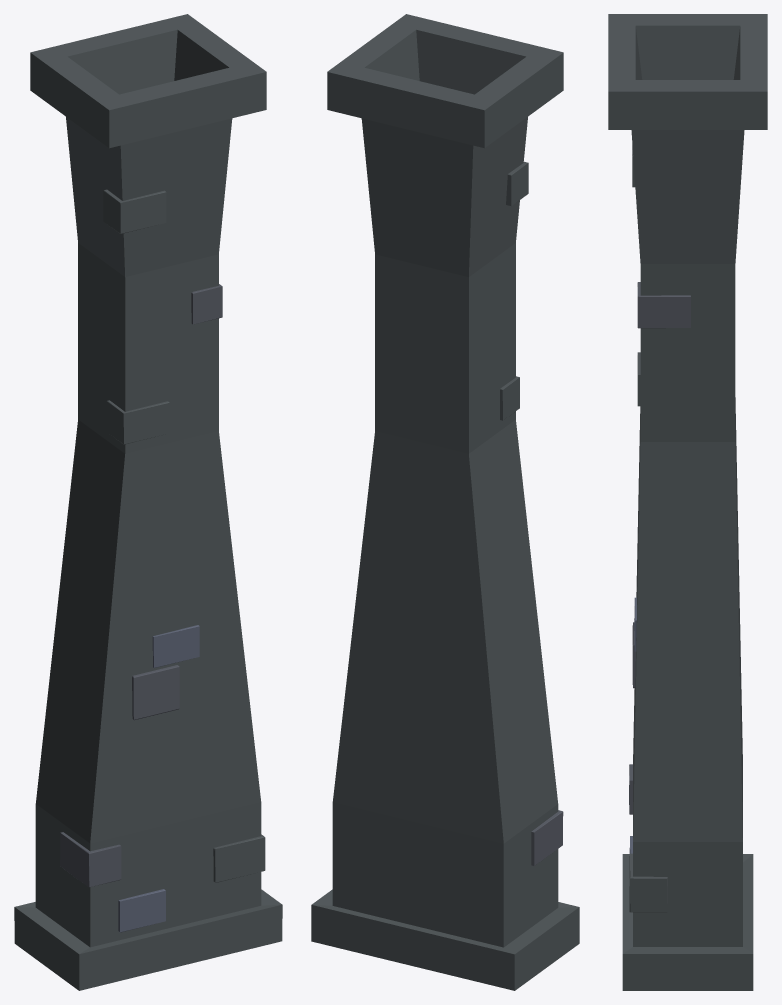
File: Chimney_01.fbx
3 views of the same model, side by side, from view 1: azimuth 30°, elevation 25°; view 2: azimuth 150°, elevation 25°; view 3: azimuth 270°, elevation 25° (orthographic).
Parts seen in each view (by area): view 1: Chimney_01; view 2: Chimney_01; view 3: Chimney_01.
Part boxes in pixels (bbox=[...]): Chimney_01: bbox=[14, 14, 282, 990]; Chimney_01: bbox=[311, 14, 579, 990]; Chimney_01: bbox=[608, 14, 767, 990].
Size of the model in its own units: 1.18 by 4.88 by 0.7943.
